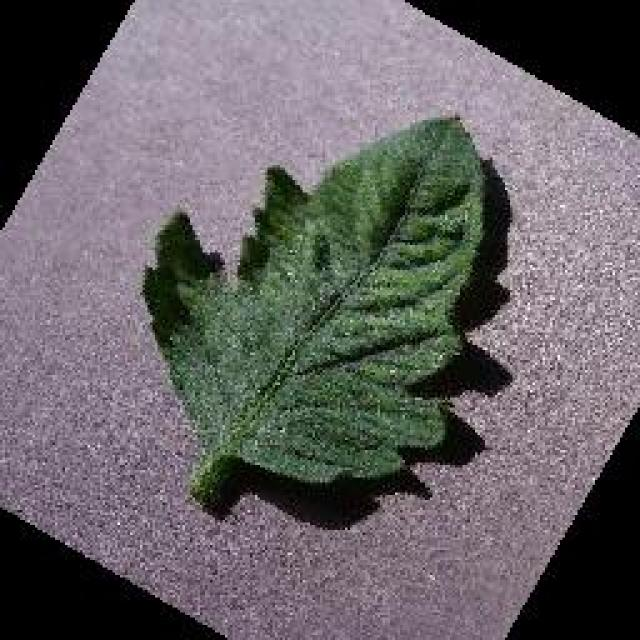Tomato___Tomato_mosaic_virus: (145, 118, 482, 498)
